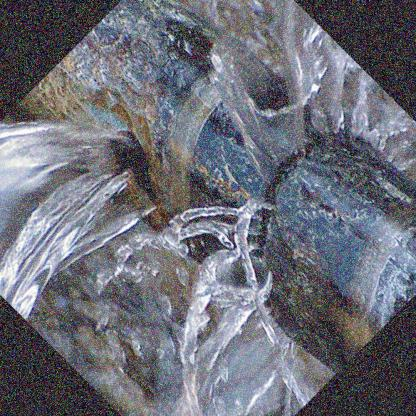burst: (229, 112, 382, 286), (81, 112, 184, 216)
